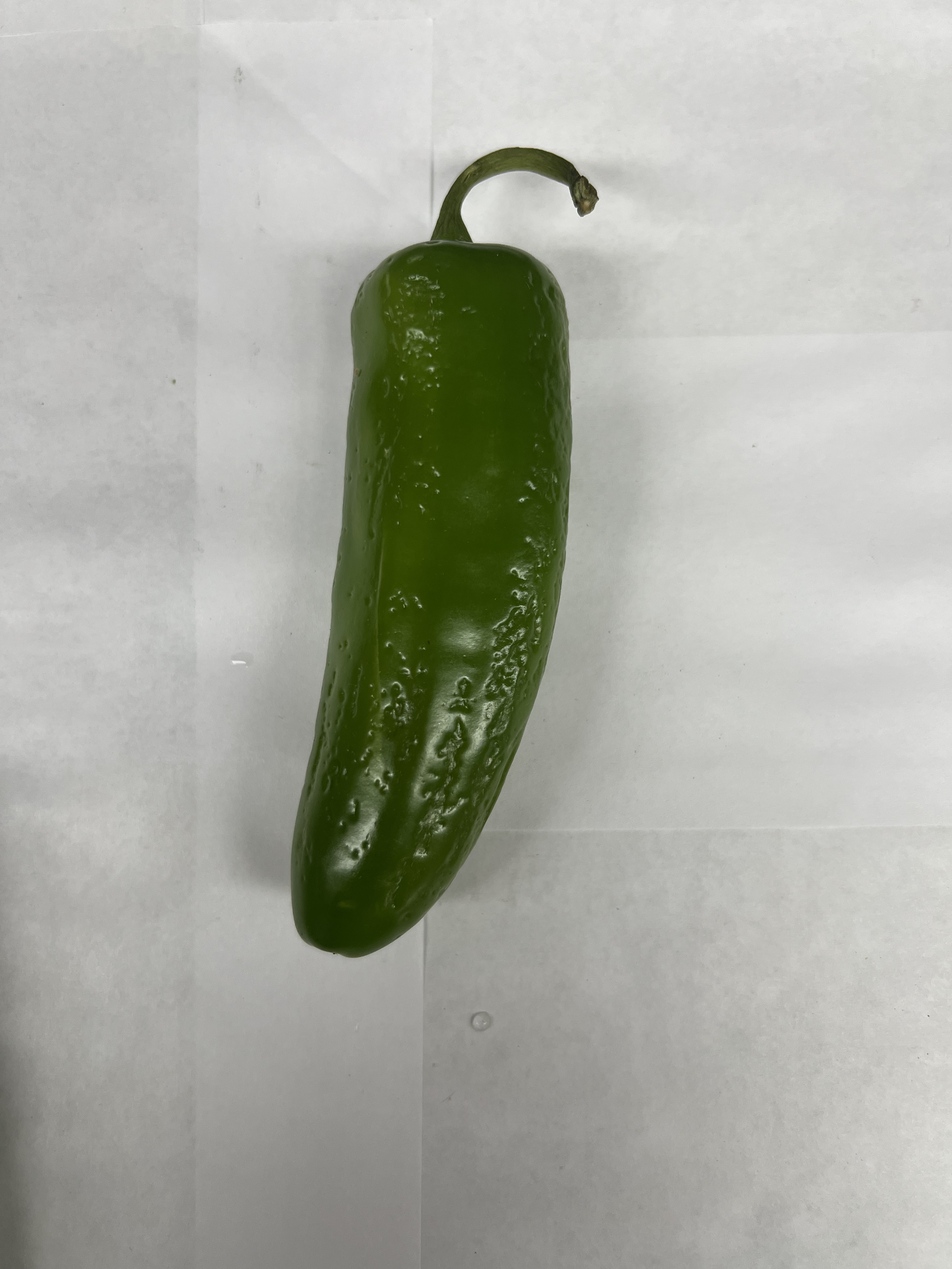wrinkling: (284, 239, 579, 965)
